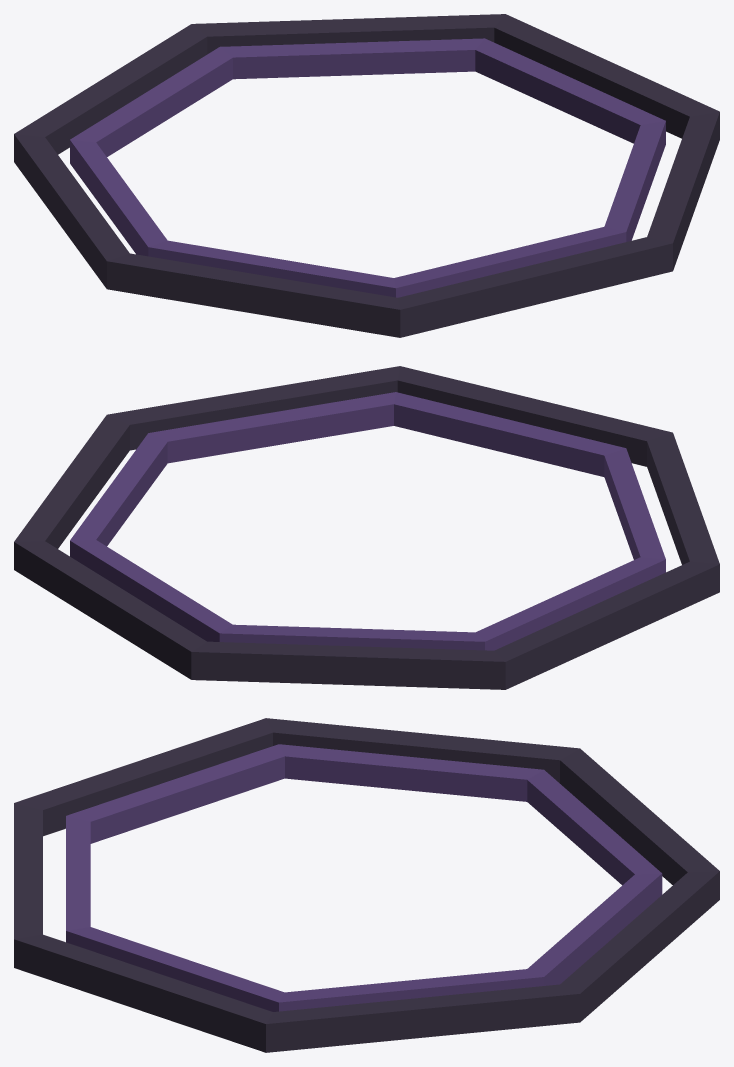
File: onion.fbx
3 views of the same model, one above another, from view 1: azimuth 30°, elevation 25°; view 2: azimuth 150°, elevation 25°; view 3: azimuth 270°, elevation 25° (orthographic). The views are drawn at different scales.
Parts seen in each view (by area): view 1: Cylinder, Cylinder.001; view 2: Cylinder, Cylinder.001; view 3: Cylinder, Cylinder.001.
Boxes of the visible parts, box(x1,y1,x2,y2) form: Cylinder: box(14, 14, 719, 337); Cylinder.001: box(70, 38, 665, 297); Cylinder: box(14, 366, 719, 689); Cylinder.001: box(70, 392, 665, 650); Cylinder: box(14, 718, 719, 1052); Cylinder.001: box(66, 744, 662, 1011).
Bounding box in the file's own units: 202 × 8.86 × 197.
